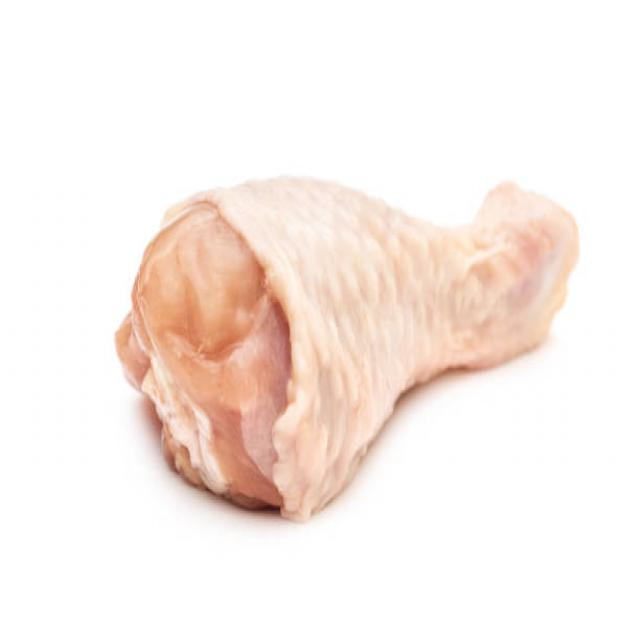Chicken Thigh: (112, 154, 594, 535)
